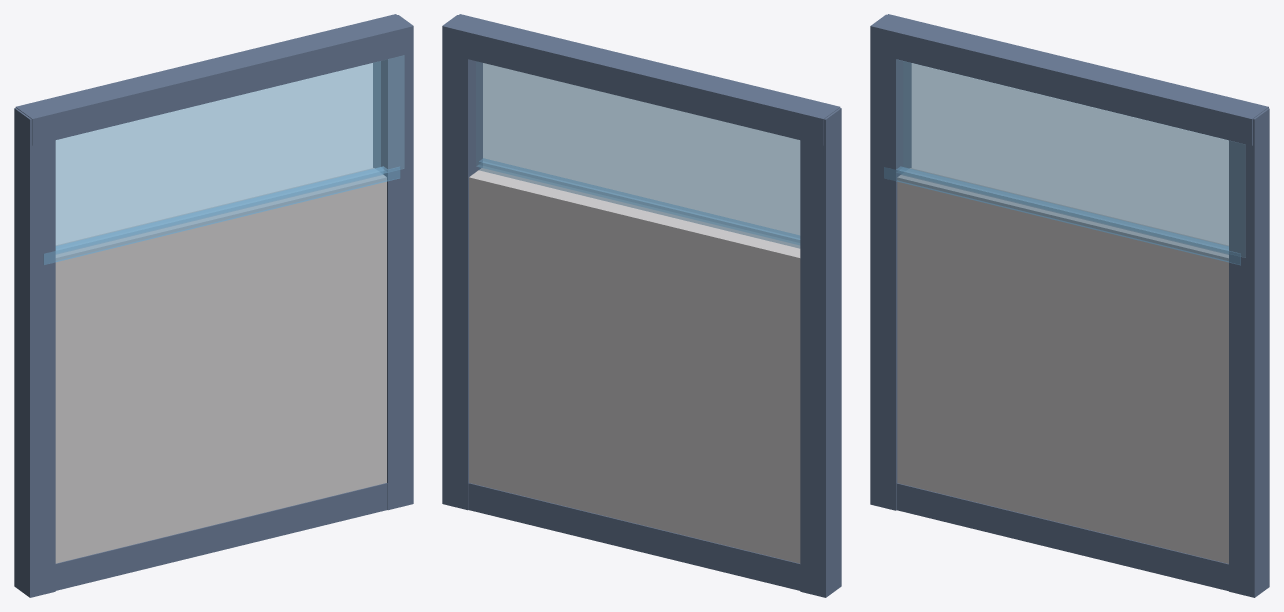
Rendered from 01_wall_half_panel.glb.
3 renders of one model, left to right at view 1: azimuth 30°, elevation 25°; view 2: azimuth 150°, elevation 25°; view 3: azimuth 330°, elevation 25°, orthographic.
Parts seen in each view (by area): view 1: part_1.002, part_2.002, part_5.003, part_3.002, part_6.002, part_4.002, part_7.002; view 2: part_1.002, part_2.002, part_5.003, part_3.002, part_6.002, part_4.002, part_7.002; view 3: part_1.002, part_2.002, part_6.002, part_3.002, part_5.003, part_4.002, part_7.002.
Boxes of the visible parts, x1,y1,x2,y2 form: part_1.002: [55, 168, 386, 563]; part_2.002: [55, 55, 404, 253]; part_5.003: [14, 108, 55, 597]; part_3.002: [15, 14, 412, 145]; part_6.002: [373, 15, 413, 510]; part_4.002: [55, 483, 387, 590]; part_7.002: [43, 166, 400, 264]; part_1.002: [469, 168, 800, 563]; part_2.002: [476, 61, 800, 245]; part_5.003: [800, 108, 841, 597]; part_3.002: [443, 14, 840, 145]; part_6.002: [442, 15, 482, 510]; part_4.002: [468, 483, 800, 590]; part_7.002: [478, 158, 800, 248]; part_1.002: [897, 168, 1228, 563]; part_2.002: [896, 59, 1245, 257]; part_6.002: [1229, 108, 1269, 597]; part_3.002: [871, 14, 1268, 145]; part_5.003: [870, 14, 911, 510]; part_4.002: [896, 483, 1228, 591]; part_7.002: [884, 166, 1240, 265].
Bounding box in the file's own units: 2.51 × 2.99 × 0.191.
